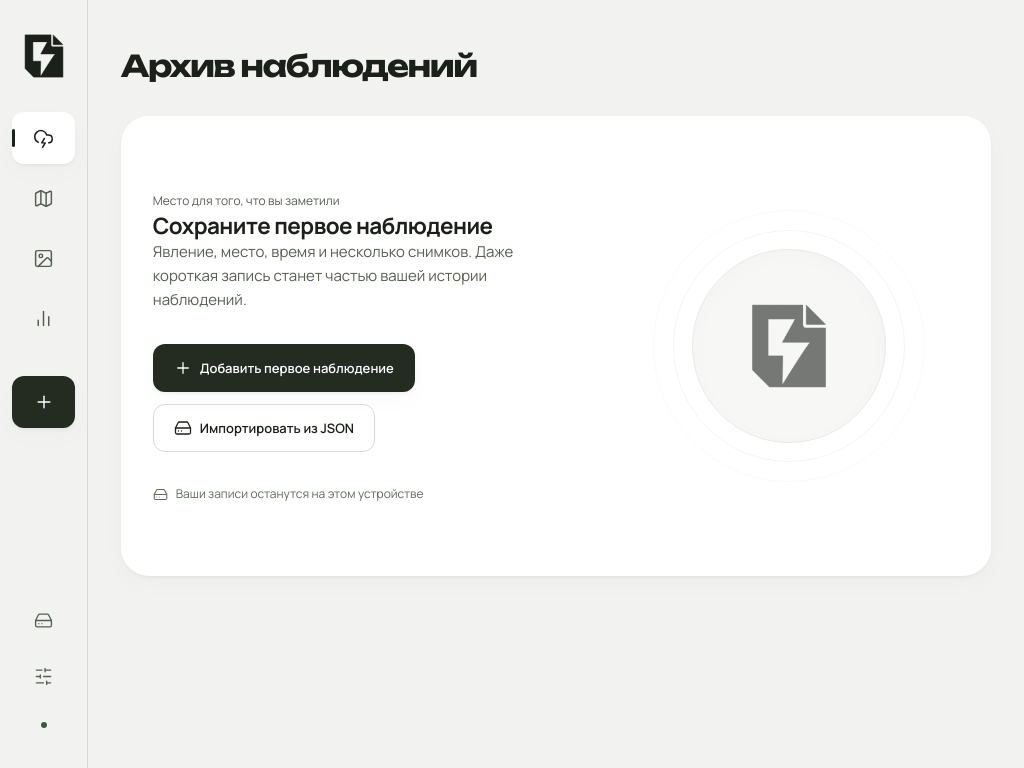
creating an observation › saves a record and shows it as a card
Click the button "Добавить первое наблюдение". click: (284, 368)
box: [153,344,415,392]
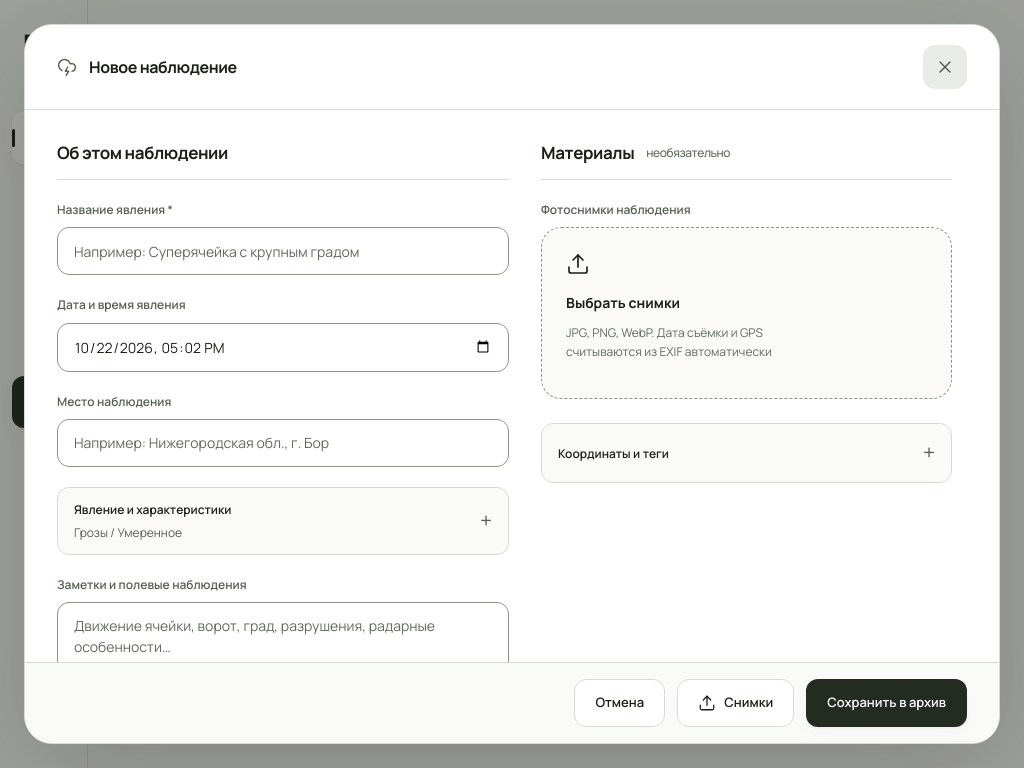
Type "Суперячейка над Бором" into the field labelled "Название явления *". click: (283, 251)
box: [57,227,509,275]
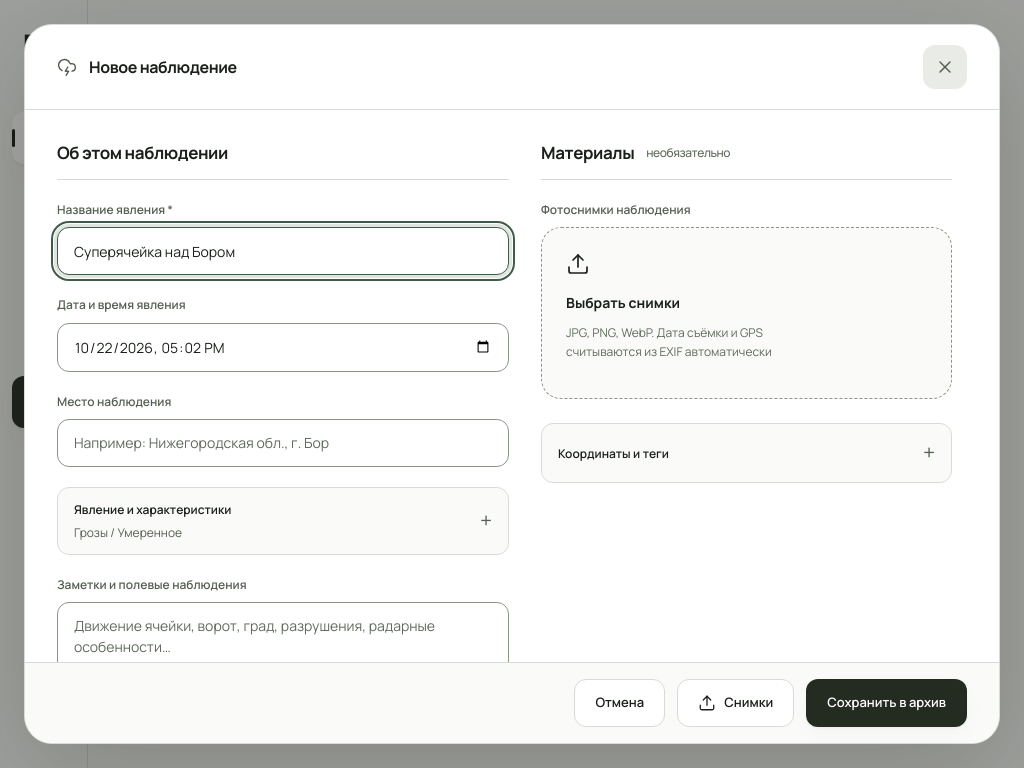
Type "Нижегородская обл., г. Бор" into the field labelled "Место наблюдения". click: (283, 443)
box: [57,419,509,467]
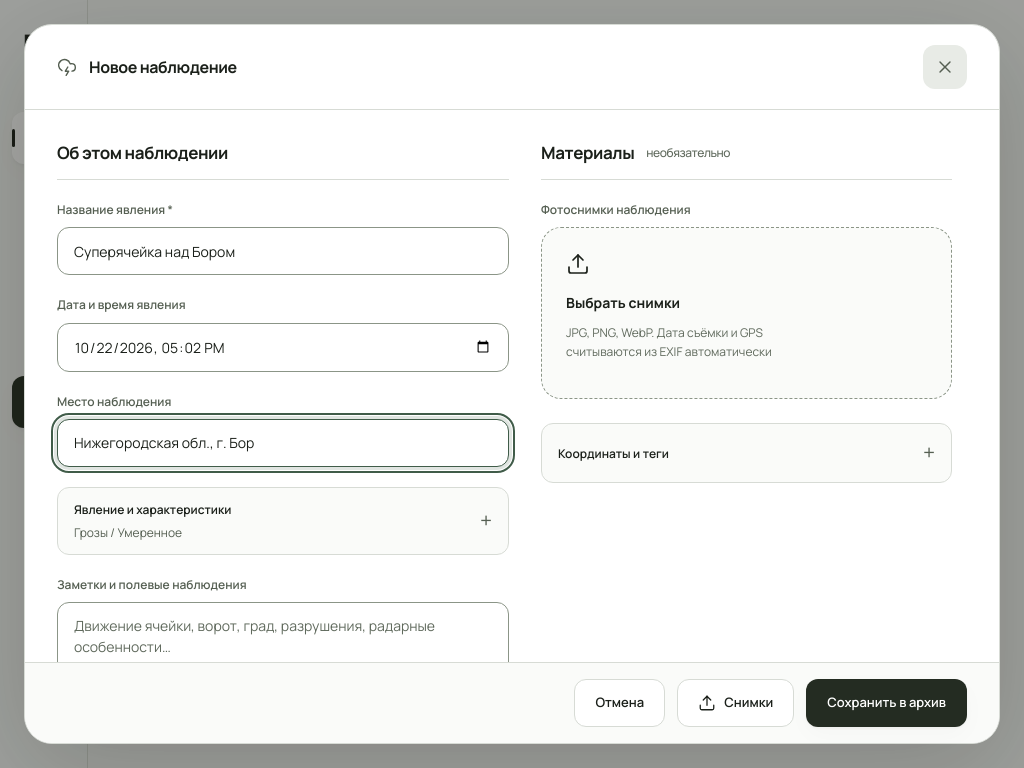
Click the button "Сохранить в архив". click: (887, 703)
box: [806,679,967,727]
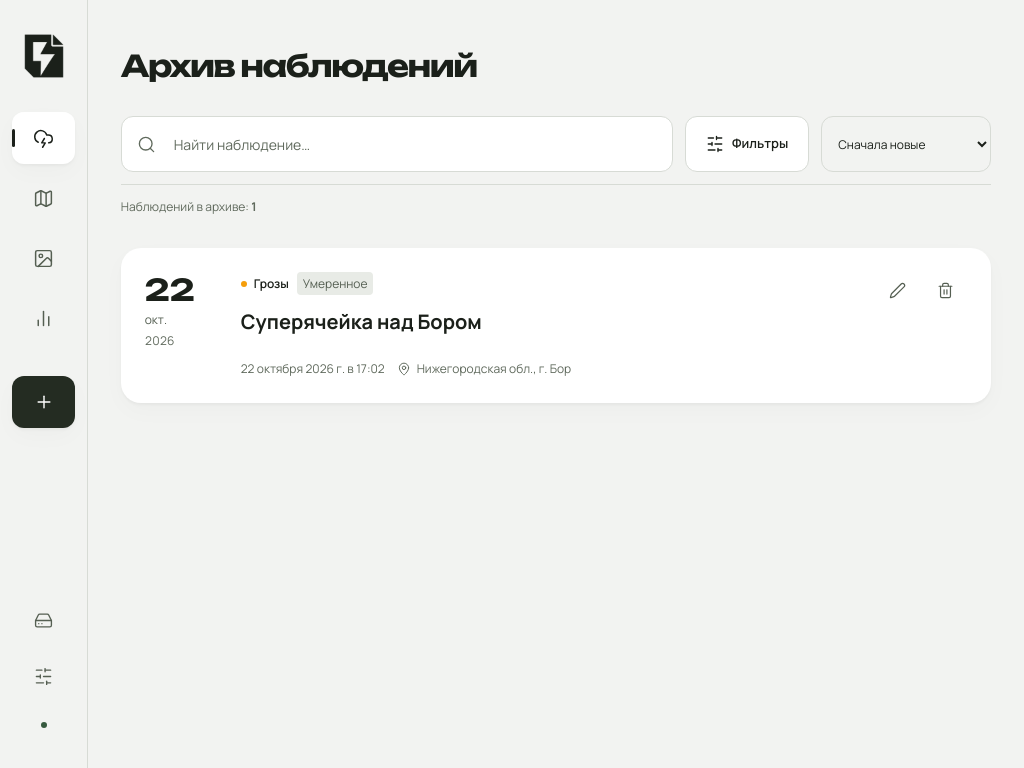
Expected: the button "Суперячейка над Бором" is shown, [241,299,482,343]
Expected: the text "Нижегородская обл., г. Бор" is shown, [417,359,571,379]
Expected: the heading "Сохраните первое наблюдение" is gone
